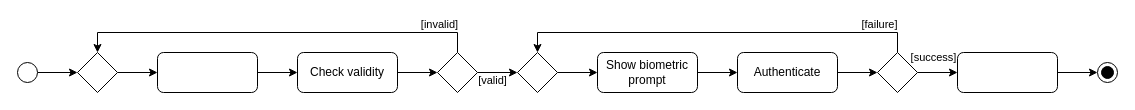
Image size: 1135x110. Some labels were removed from this diagram. Here are the shapes that lost their labels. From the top down, the centre of each, then its label:
At (x=207, y=72): "Enter current master password".
At (x=1007, y=72): "Commit data".
